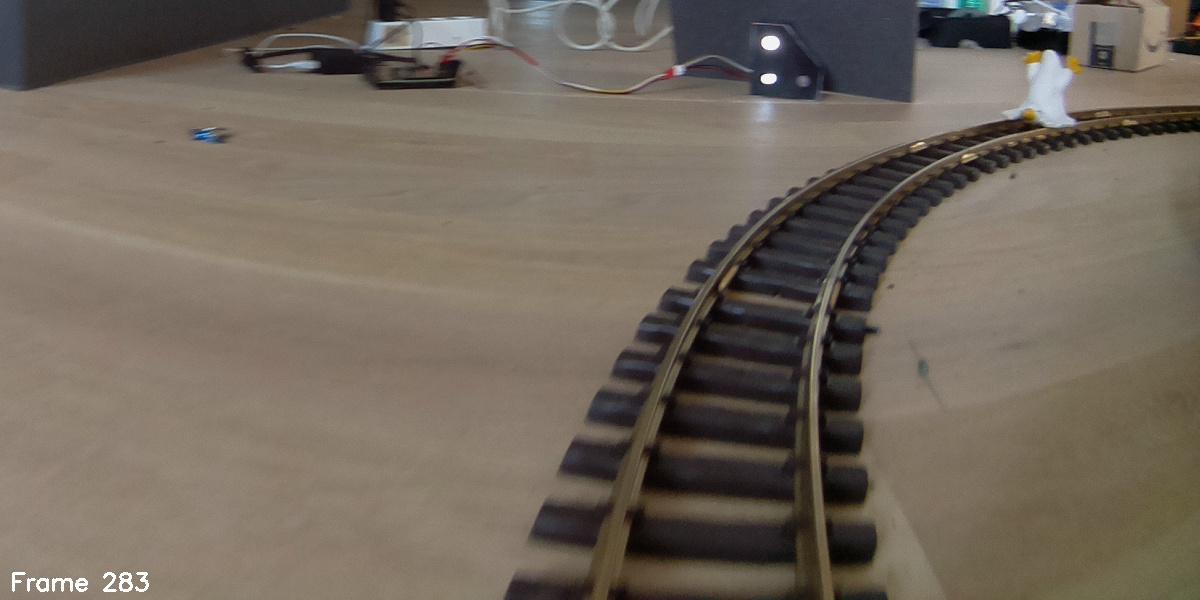Fahrt: (749, 20, 822, 99)
